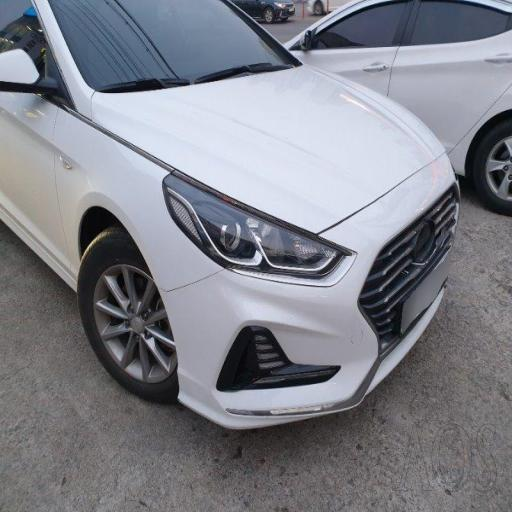scratch: (196, 368, 374, 452)
